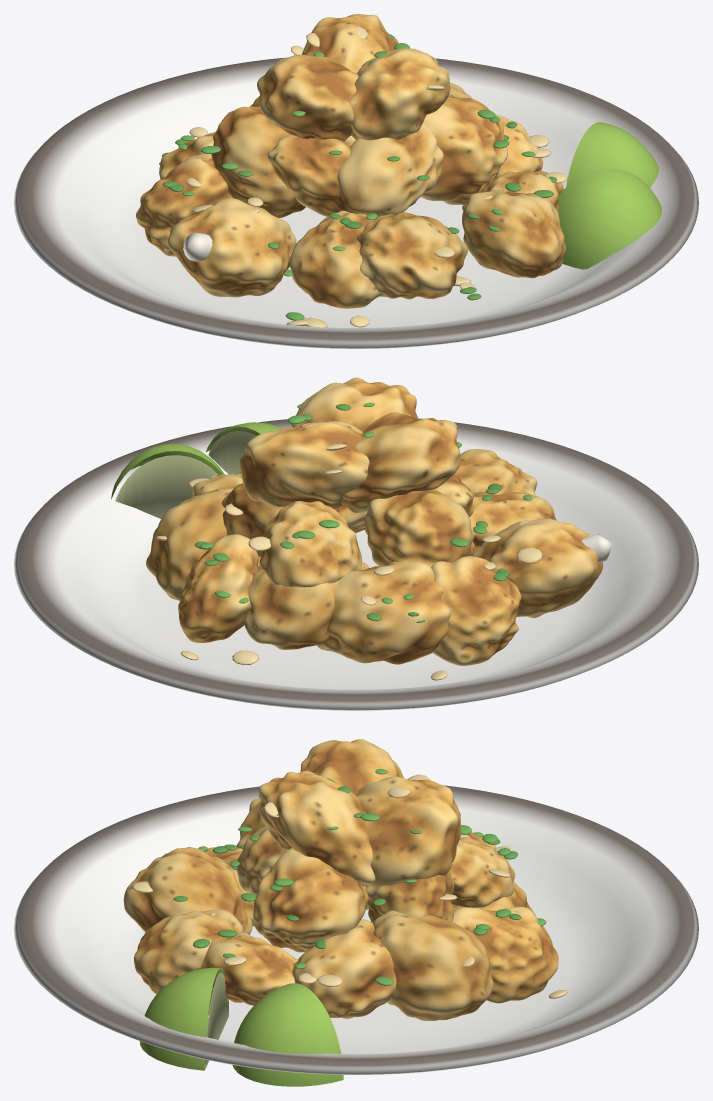
Rendered from frango-leve.glb.
3 views of the same model, one above another, from view 1: azimuth 30°, elevation 25°; view 2: azimuth 150°, elevation 25°; view 3: azimuth 270°, elevation 25° (orthographic).
Visible parts, largest first — view 1: frango_a_passarinho; view 2: frango_a_passarinho; view 3: frango_a_passarinho.
Part boxes in pixels (x1,y1,x2,y2): frango_a_passarinho: (14, 14, 698, 348); frango_a_passarinho: (14, 377, 698, 710); frango_a_passarinho: (14, 739, 698, 1086).
Bounding box in the file's own units: 0.27 × 0.0914 × 0.27.
